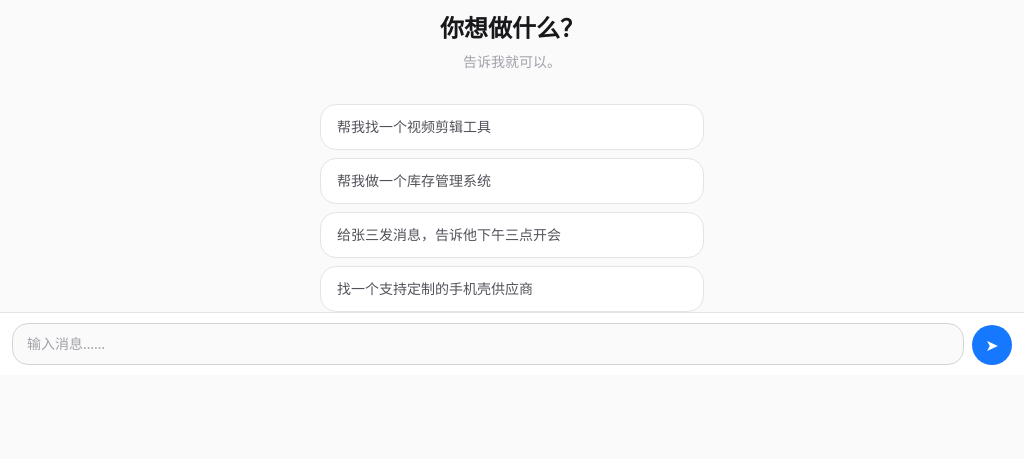
ChatHomeScreen (chat-first entry) › requires_explicit_confirmation_before_sending_a_message
The image size is (1024, 459).
Expected: the text "你想做什么？" is shown, x1=440 y1=12 x2=584 y2=44
Click the button "给张三发消息，告诉他下午三点开会".
click(512, 235)  # box x1=320 y1=212 x2=704 y2=258
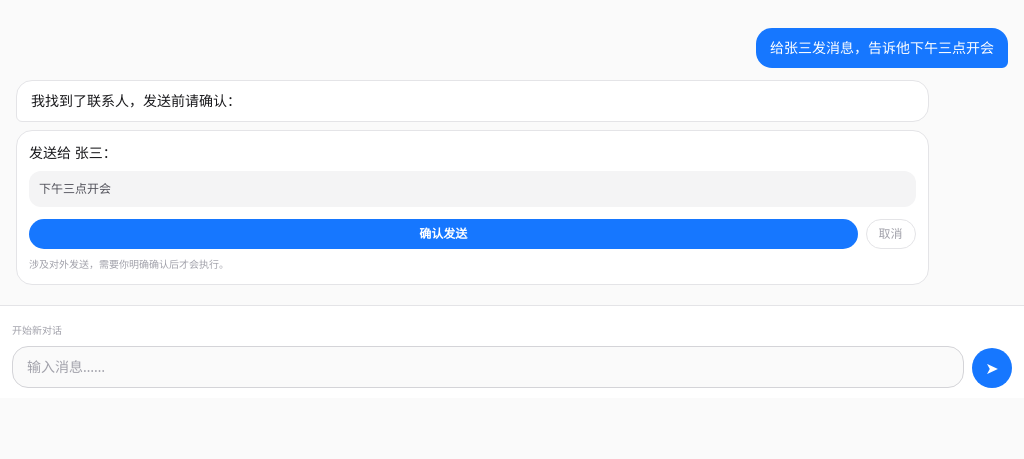
Result: the button "确认发送" is shown
Result: the text "我找到了联系人，发送前请确认：" is shown at x1=16 y1=80 x2=929 y2=122
Click the button "确认发送".
click(443, 234)  # box x1=29 y1=219 x2=858 y2=249
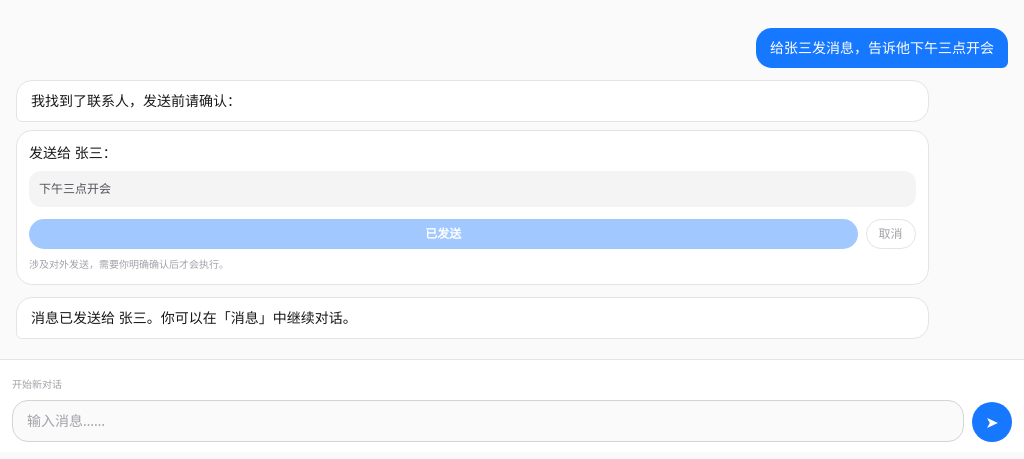
Result: the text "消息已发送给 张三。你可以在「消息」中继续对话。" is shown at x1=16 y1=297 x2=929 y2=339
